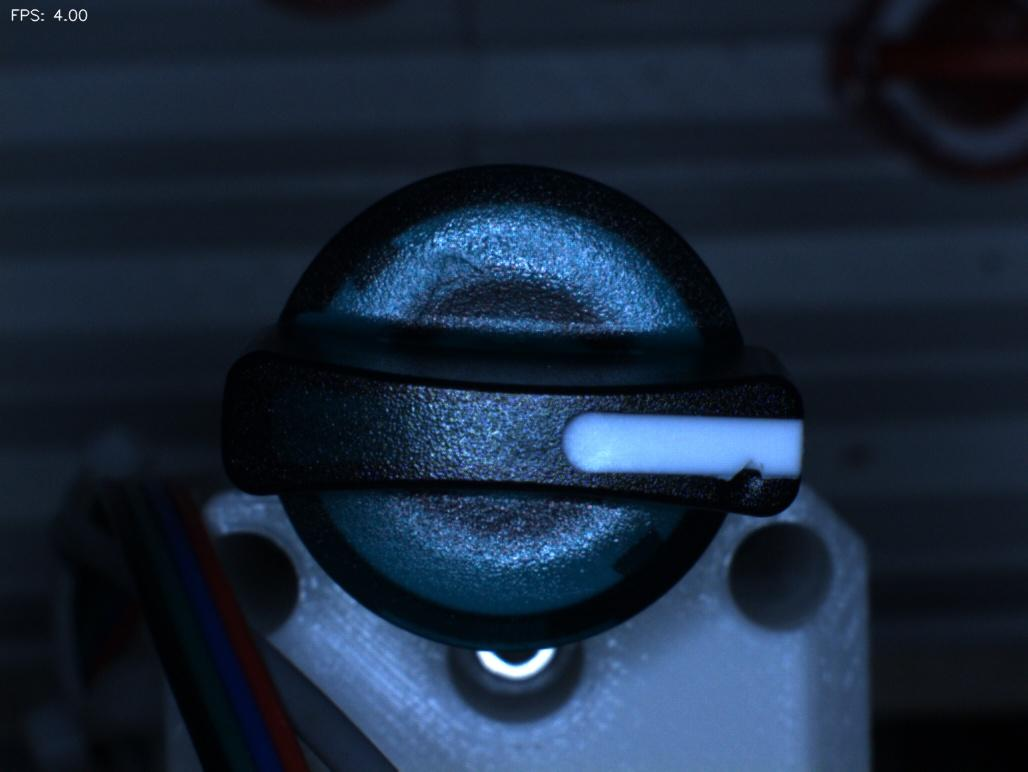Choc: (702, 442, 786, 526)
